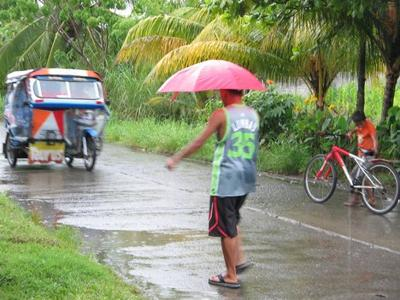person: (165, 89, 261, 286)
